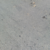others: (16, 1, 39, 44)
